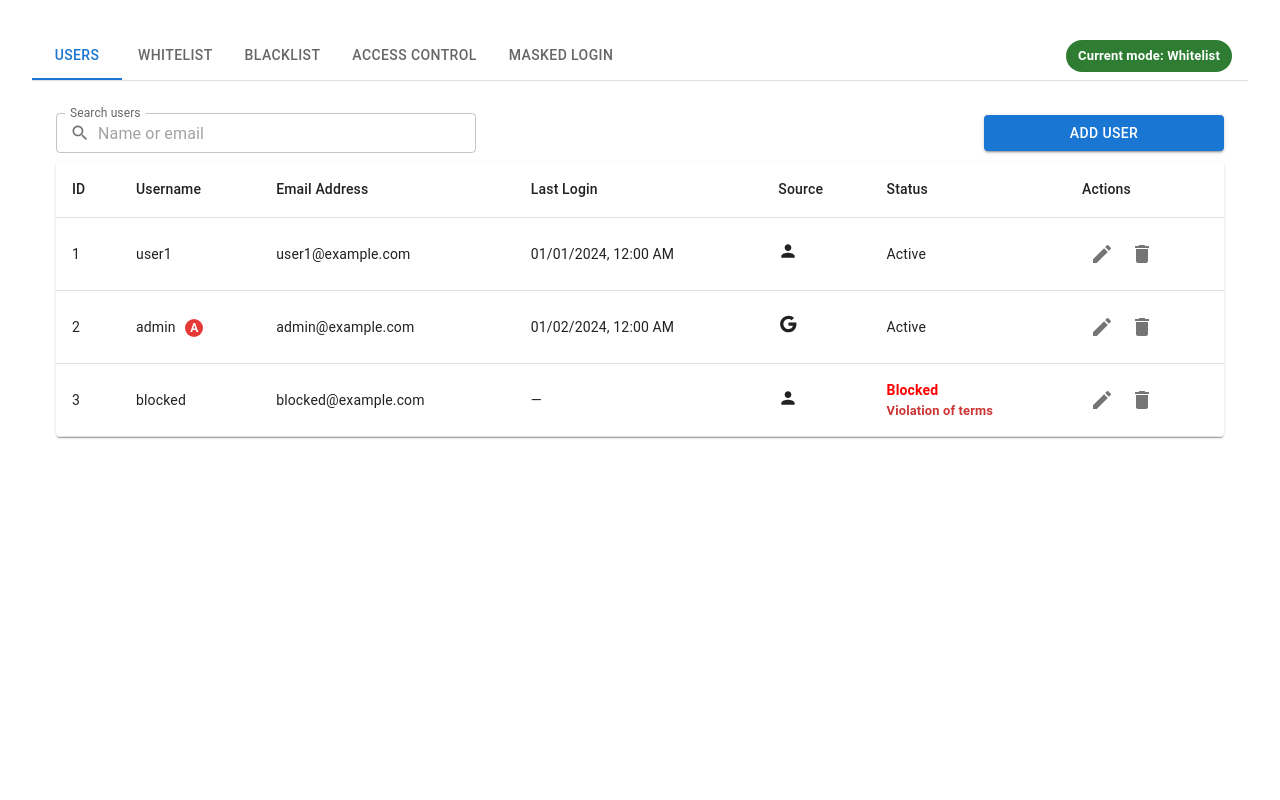
Scenario: AdminPage › User Management › shows delete confirmation dialog when delete button is clicked
Expected: the text "user1" is shown, [120,218,260,290]
Click the button named "Delete" in the row of "user1@example.com" at x=1142, y=254, box [1122,234,1162,274]
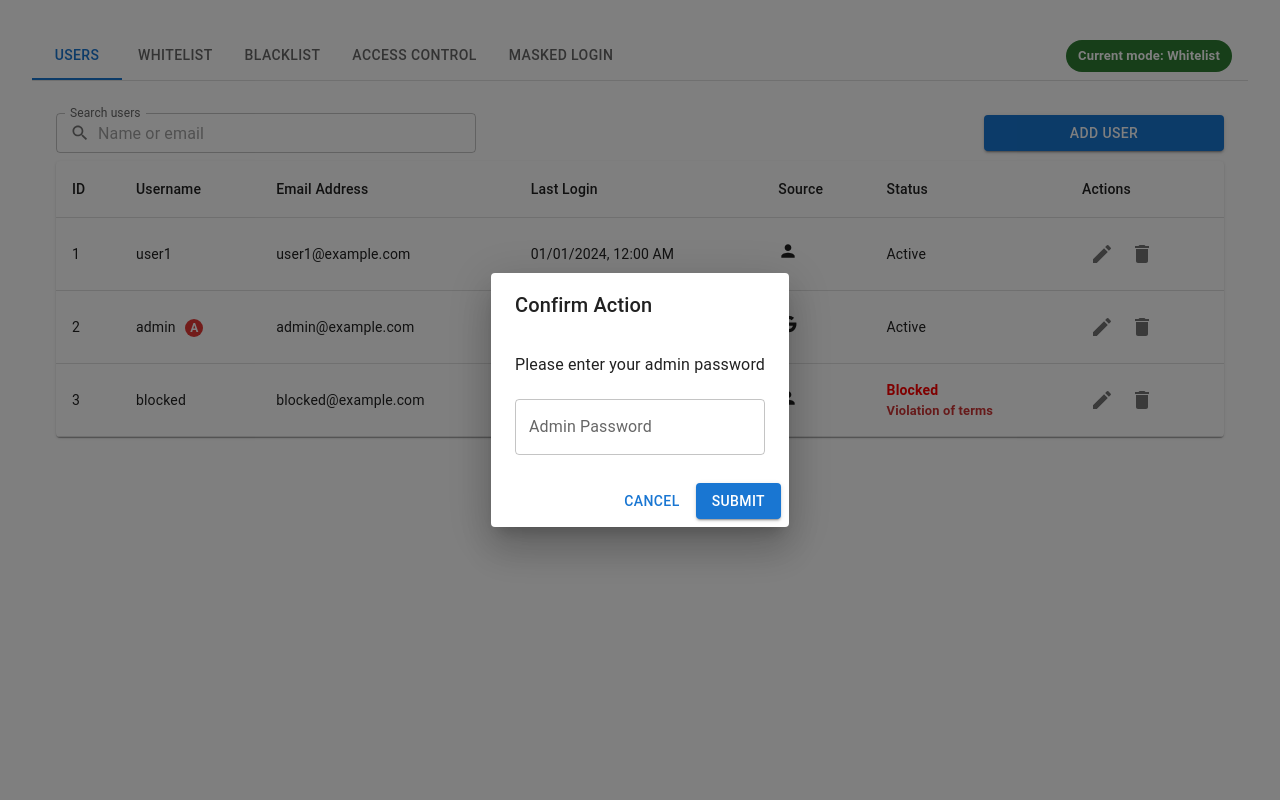
Expected: the heading "Confirm Action" is shown, [515,293,652,317]
